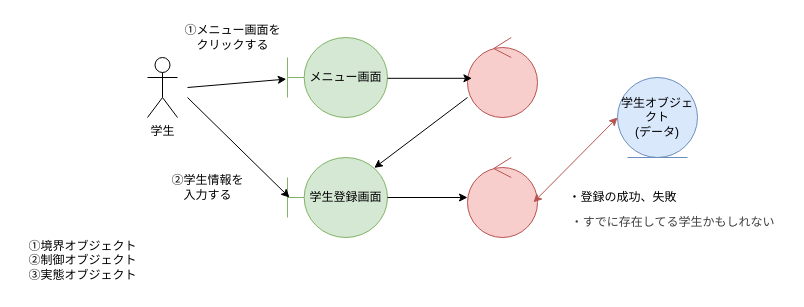
This 804x307 diagram has some shape labels left out. The centre of each missing label's shape, as x and y in pixels:
学生情報 登録: point 502,197
表示(する): point 502,77
